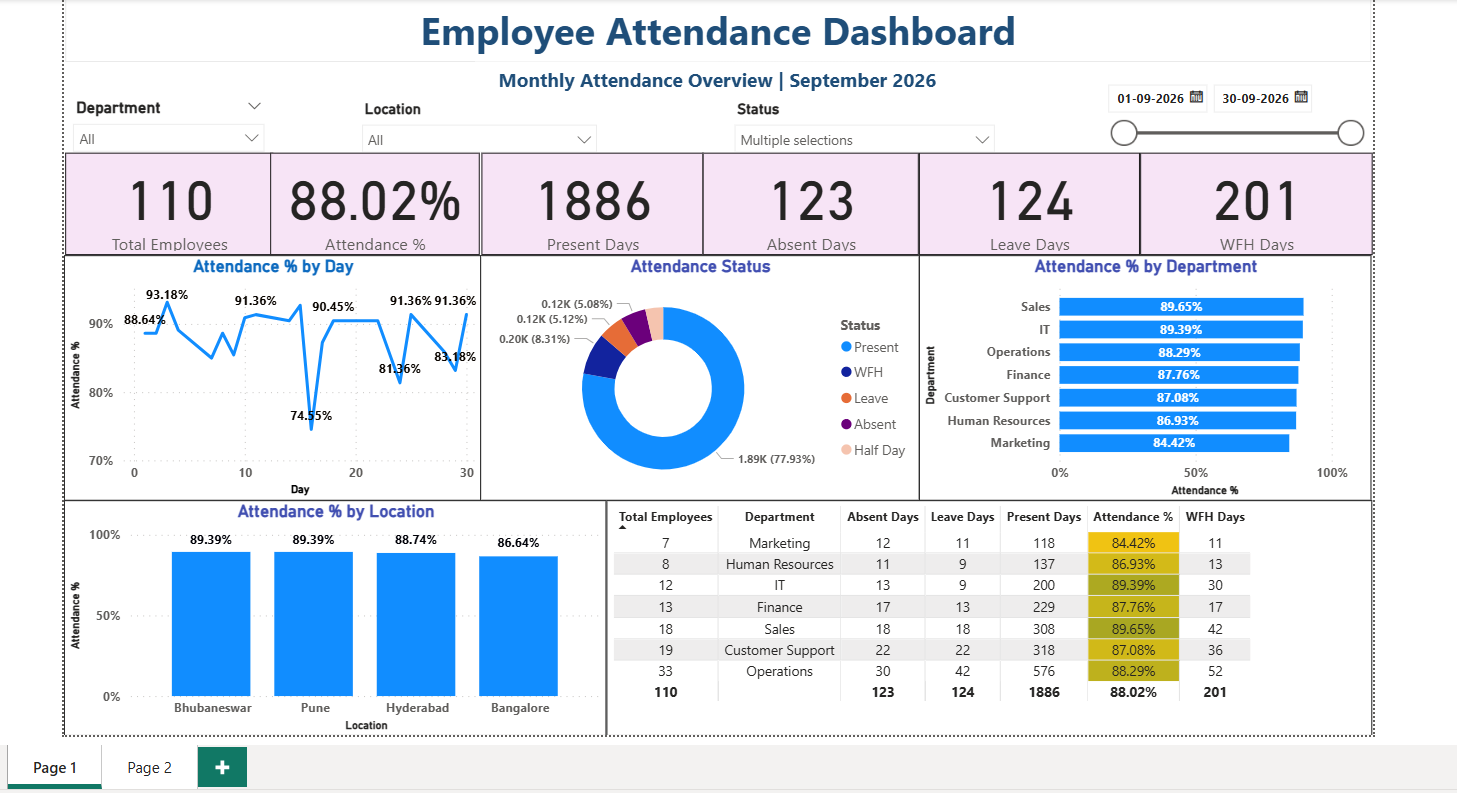

Layout of this report page (visuals, bound fields, positions):
{"tool":"powerbi","page":{"name":"Page 1","canvas":[1280,720],"ordinal":0},"visuals":[{"type":"textbox","box":[1.2,0,1277.5,61.2],"z":0},{"type":"textbox","box":[402.5,61.2,473.8,42.5],"z":1000},{"type":"card","fields":{"Values":["Attendance Raw.Total Employees"]},"box":[1.1,150,203.4,100],"z":2000},{"type":"card","fields":{"Values":["Attendance Raw.Attendance %"]},"box":[202.3,150,204.5,100],"z":3000},{"type":"card","fields":{"Values":["Attendance Raw.Present Days"]},"box":[408,150,217,100],"z":4000},{"type":"card","fields":{"Values":["Attendance Raw.Absent Days"]},"box":[625,150,211.4,100],"z":5000},{"type":"card","fields":{"Values":["Attendance Raw.Leave Days"]},"box":[836.4,150,215.9,100],"z":6000},{"type":"card","fields":{"Values":["Attendance Raw.WFH Days"]},"box":[1052.3,150,227.3,100],"z":7000},{"type":"lineChart","fields":{"Category":["Calendar.Date.Variation.Date Hierarchy.Day"],"Y":["Attendance Raw.Attendance %"]},"box":[0,250,408,239.8],"z":8000},{"type":"donutChart","title":"Attendance Status","fields":{"Category":["Attendance Raw.Status"],"Y":["CountNonNull(Attendance Raw.Status)"]},"box":[406.8,250,429.5,239.8],"z":9000},{"type":"clusteredBarChart","fields":{"Category":["Employee Master.Department"],"Y":["Attendance Raw.Attendance %"]},"box":[836.2,250,442.5,240],"z":10000},{"type":"columnChart","fields":{"Category":["Employee Master.Location"],"Y":["Attendance Raw.Attendance %"]},"box":[0,489.8,530.7,230.7],"z":11000},{"type":"tableEx","fields":{"Values":["Attendance Raw.Total Employees","Employee Master.Department","Attendance Raw.Absent Days","Attendance Raw.Leave Days","Attendance Raw.Present Days","Attendance Raw.Attendance %","Attendance Raw.WFH Days"]},"box":[530.7,489.8,748.9,230.7],"z":12000},{"type":"slicer","fields":{"Values":["Employee Master.Department"]},"box":[0,93.8,205,55],"z":13000},{"type":"slicer","fields":{"Values":["Employee Master.Location"]},"box":[281.2,93.8,250,55],"z":14000},{"type":"slicer","fields":{"Values":["Attendance Raw.Status"]},"box":[645,93.8,275,55],"z":15000},{"type":"slicer","fields":{"Values":["Calendar.Date"]},"box":[1008.8,73.8,271.2,76.2],"z":16000}]}

Visuals, with their boxes on the page's 1280x720 design canvas (x1, y1, x2, y2). These are canvas units, not pixel positions in the 1457x793 screenshot, which may show the page scaled, cropped or inside an application window:
textbox: x1=1, y1=0, x2=1279, y2=61
textbox: x1=402, y1=61, x2=876, y2=104
card - Attendance Raw.Total Employees: x1=1, y1=150, x2=204, y2=250
card - Attendance Raw.Attendance %: x1=202, y1=150, x2=407, y2=250
card - Attendance Raw.Present Days: x1=408, y1=150, x2=625, y2=250
card - Attendance Raw.Absent Days: x1=625, y1=150, x2=836, y2=250
card - Attendance Raw.Leave Days: x1=836, y1=150, x2=1052, y2=250
card - Attendance Raw.WFH Days: x1=1052, y1=150, x2=1280, y2=250
lineChart - Calendar.Date.Variation.Date Hierarchy.Day x Attendance Raw.Attendance %: x1=0, y1=250, x2=408, y2=490
"Attendance Status" donutChart: x1=407, y1=250, x2=836, y2=490
clusteredBarChart - Employee Master.Department x Attendance Raw.Attendance %: x1=836, y1=250, x2=1279, y2=490
columnChart - Employee Master.Location x Attendance Raw.Attendance %: x1=0, y1=490, x2=531, y2=720
tableEx - Attendance Raw.Total Employees x Employee Master.Department: x1=531, y1=490, x2=1280, y2=720
slicer - Employee Master.Department: x1=0, y1=94, x2=205, y2=149
slicer - Employee Master.Location: x1=281, y1=94, x2=531, y2=149
slicer - Attendance Raw.Status: x1=645, y1=94, x2=920, y2=149
slicer - Calendar.Date: x1=1009, y1=74, x2=1280, y2=150
